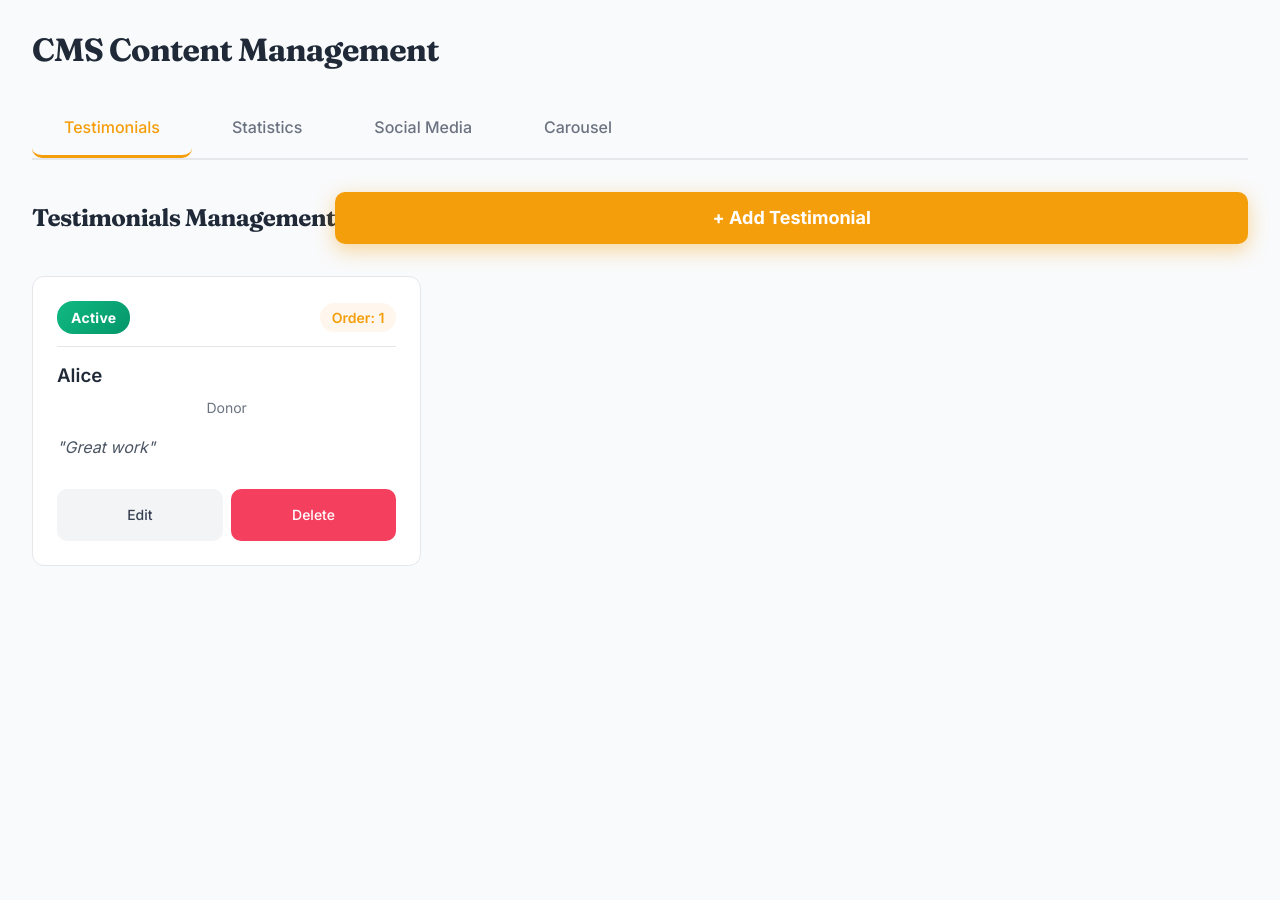
Test: AdminCMS › switching to Carousel tab renders carousel content
Expected: the heading "Alice" is shown, [57,364,102,387]
Click the button "Carousel" at (578, 129), box [512,99,644,158]
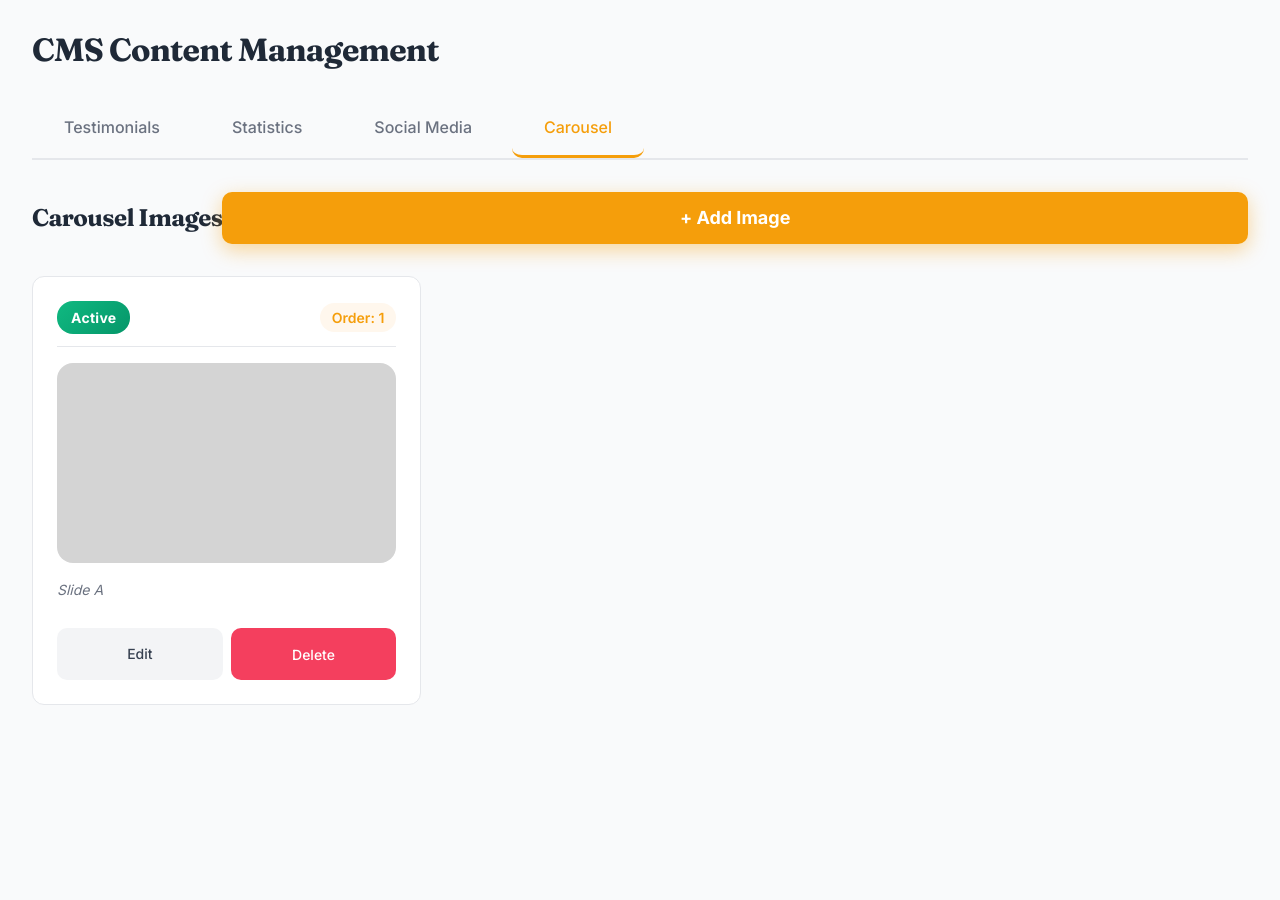
Expected: the text "Slide A" is shown, [57,581,103,598]
